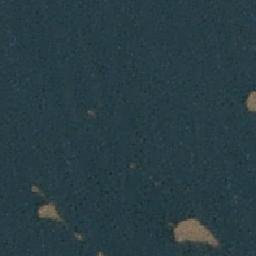debris: (169, 217, 221, 247), (34, 198, 64, 226), (244, 89, 256, 114)
